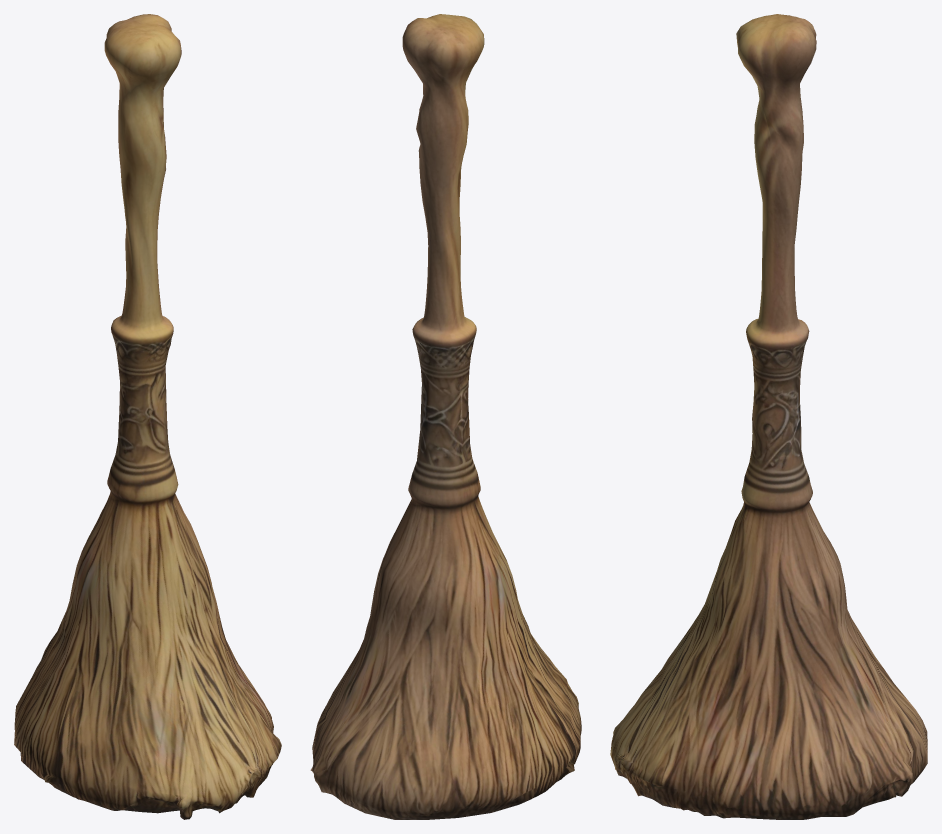
Rendered from broom.fbx.
The picture shows the model from 3 angles, left to right: view 1: azimuth 30°, elevation 25°; view 2: azimuth 150°, elevation 25°; view 3: azimuth 270°, elevation 25°; orthographic projection. The views are drawn at different scales.
Parts seen in each view (by area): view 1: broom; view 2: broom; view 3: broom.
Boxes of the visible parts, x1,y1,x2,y2 form: broom: [14, 14, 281, 819]; broom: [310, 14, 581, 819]; broom: [610, 14, 927, 819].
Bounding box in the file's own units: 36.88 × 120 × 44.71.
1 material, 1 textured.
